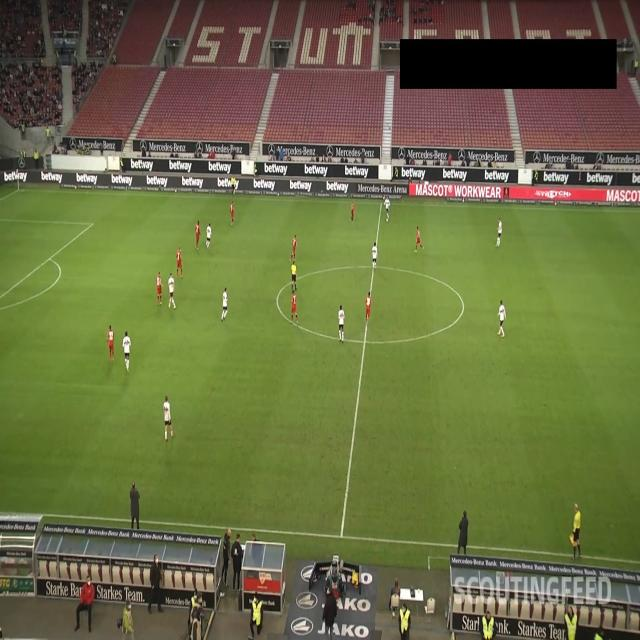ball: (385, 217, 389, 223)
